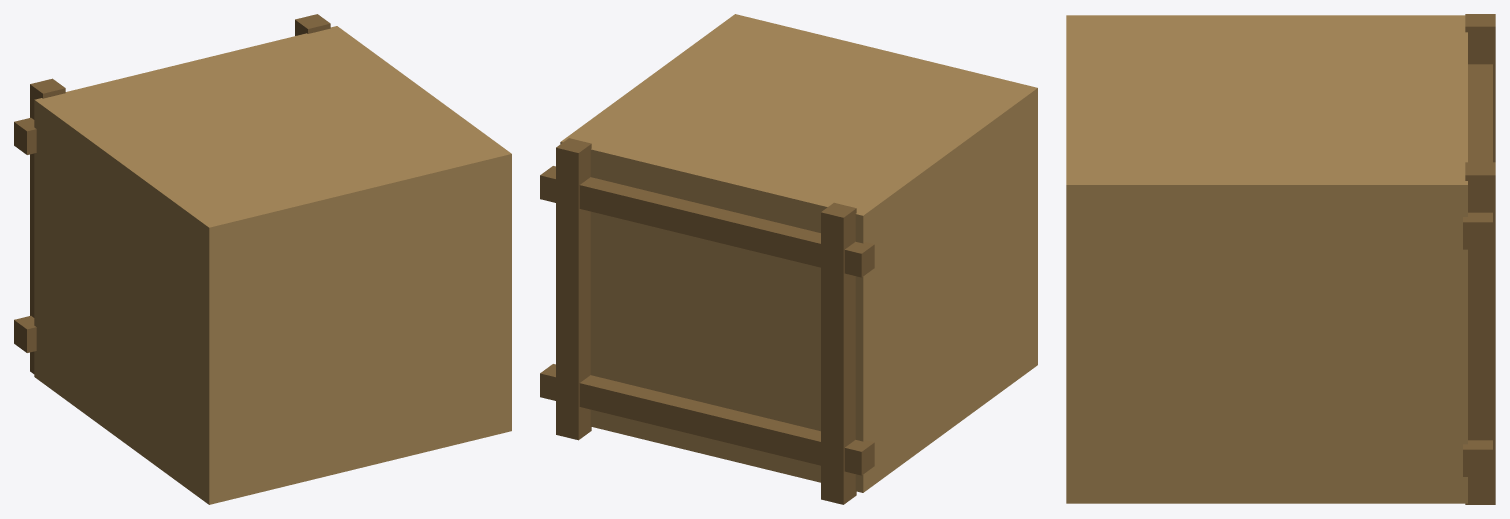
Rendered from crate.glb.
3 renders of one model, left to right at view 1: azimuth 30°, elevation 25°; view 2: azimuth 150°, elevation 25°; view 3: azimuth 270°, elevation 25°, orthographic. The views are drawn at different scales.
Parts seen in each view (by area): view 1: world; view 2: world; view 3: world.
Boxes of the visible parts, x1,y1,x2,y2 form: world: (14,14,511,504); world: (540,14,1037,504); world: (1066,14,1495,504).
Bounding box in the file's own units: 1.7 × 1.45 × 1.71.
